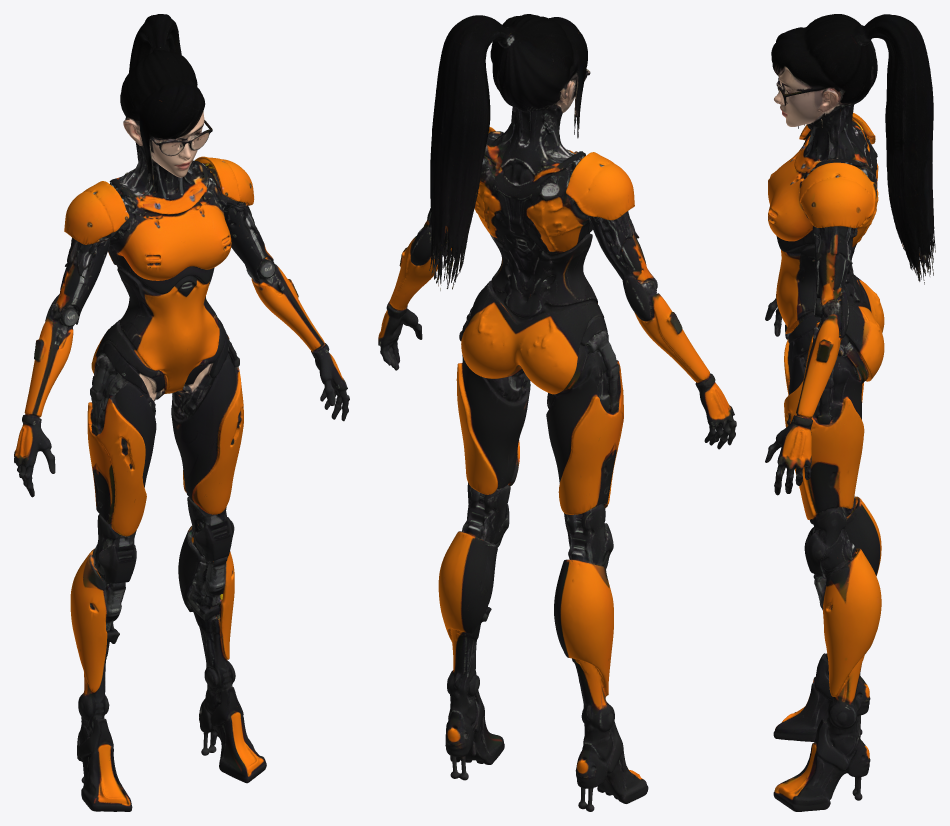
Rendered from eliza_front_reference.glb.
3 views of the same model, side by side, from view 1: azimuth 30°, elevation 25°; view 2: azimuth 150°, elevation 25°; view 3: azimuth 270°, elevation 25° (orthographic). The views are drawn at different scales.
Bounding box in the file's own units: 0.8867 × 1.9 × 0.3837.
Materials: 1 (1 with a texture image).
